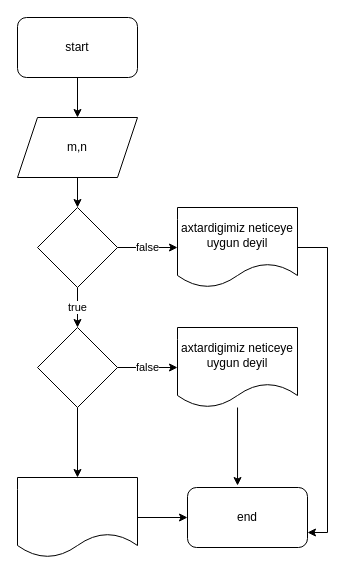
Some shapes in this 353 by 575 pixel diagram are drawn without their labels. The centre of each missing label's shape, as x and y in pixels:
m + n nin cemini tapin: the point at 77,517
m%2==0: the point at 77,247
n%2==0: the point at 77,367
